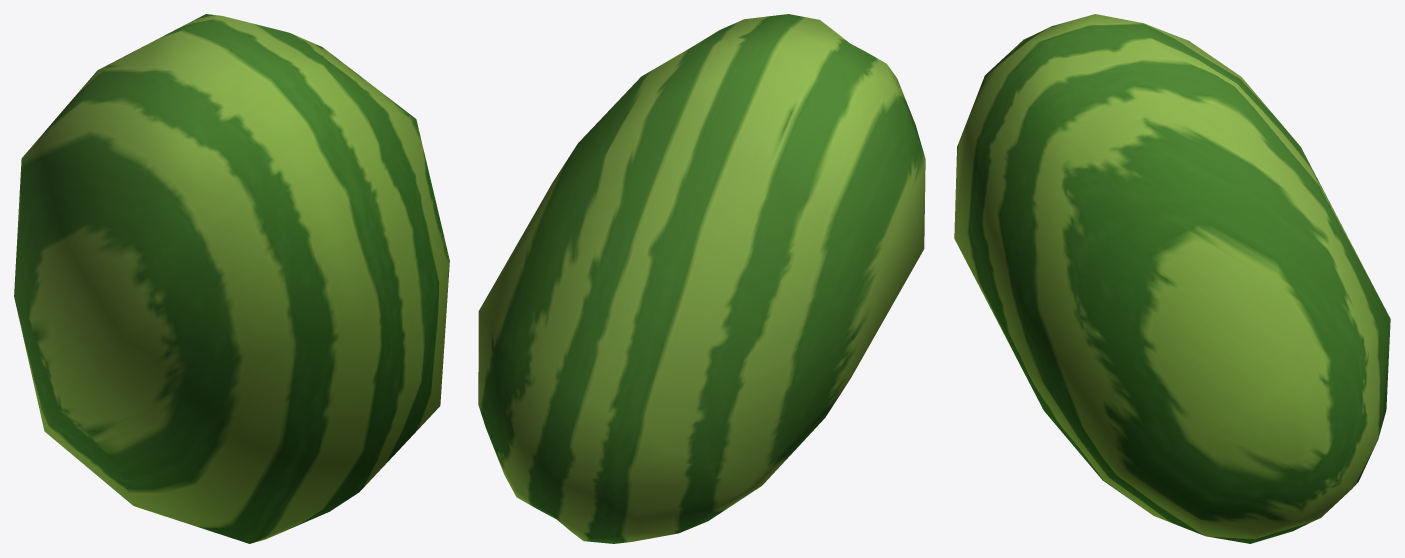
File: MSH_Watermelon.fbx
3 views of the same model, side by side, from view 1: azimuth 30°, elevation 25°; view 2: azimuth 150°, elevation 25°; view 3: azimuth 270°, elevation 25° (orthographic). The views are drawn at different scales.
Parts seen in each view (by area): view 1: MSH_Watermelon; view 2: MSH_Watermelon; view 3: MSH_Watermelon.
Part boxes in pixels (<box>): MSH_Watermelon: <box>14,14,449,543</box>; MSH_Watermelon: <box>478,14,925,543</box>; MSH_Watermelon: <box>954,14,1390,543</box>.
Size of the model in its own units: 18.49 by 24.06 by 20.56.
